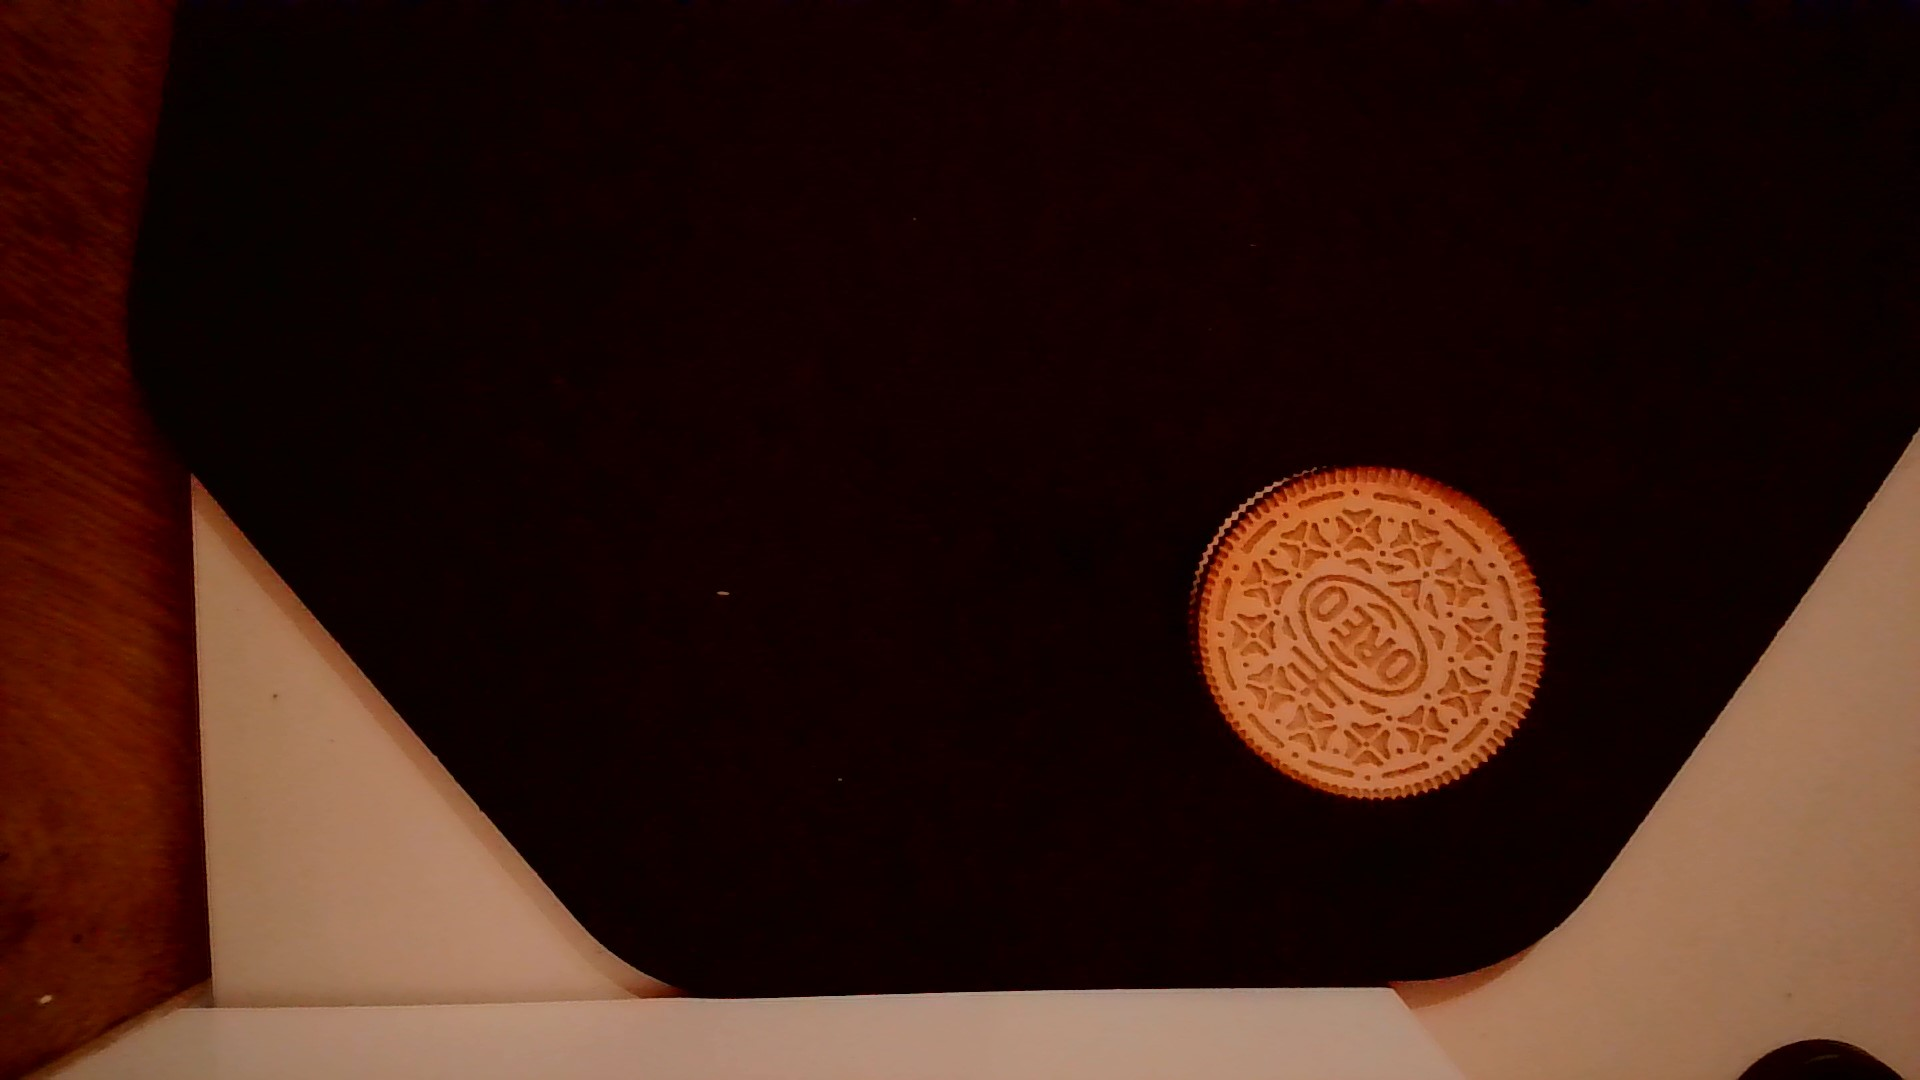Oréo: (1179, 454, 1552, 810)
